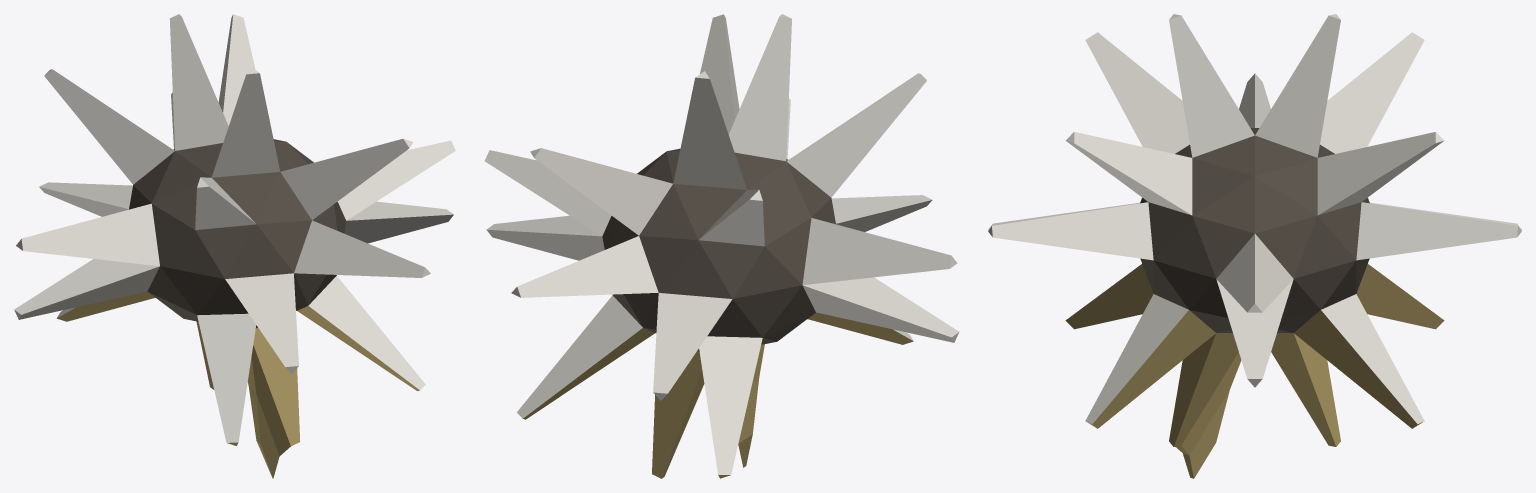
File: dandelion_puff.glb
3 views of the same model, side by side, from view 1: azimuth 30°, elevation 25°; view 2: azimuth 150°, elevation 25°; view 3: azimuth 270°, elevation 25° (orthographic). The views are drawn at different scales.
Visible parts, largest first — view 1: dandelion_puff; view 2: dandelion_puff; view 3: dandelion_puff.
Boxes of the visible parts, x1,y1,x2,y2 form: dandelion_puff: (14, 14, 455, 478); dandelion_puff: (484, 14, 959, 478); dandelion_puff: (988, 14, 1521, 478).
Bounding box in the file's own units: 0.07 × 0.065 × 0.07.
